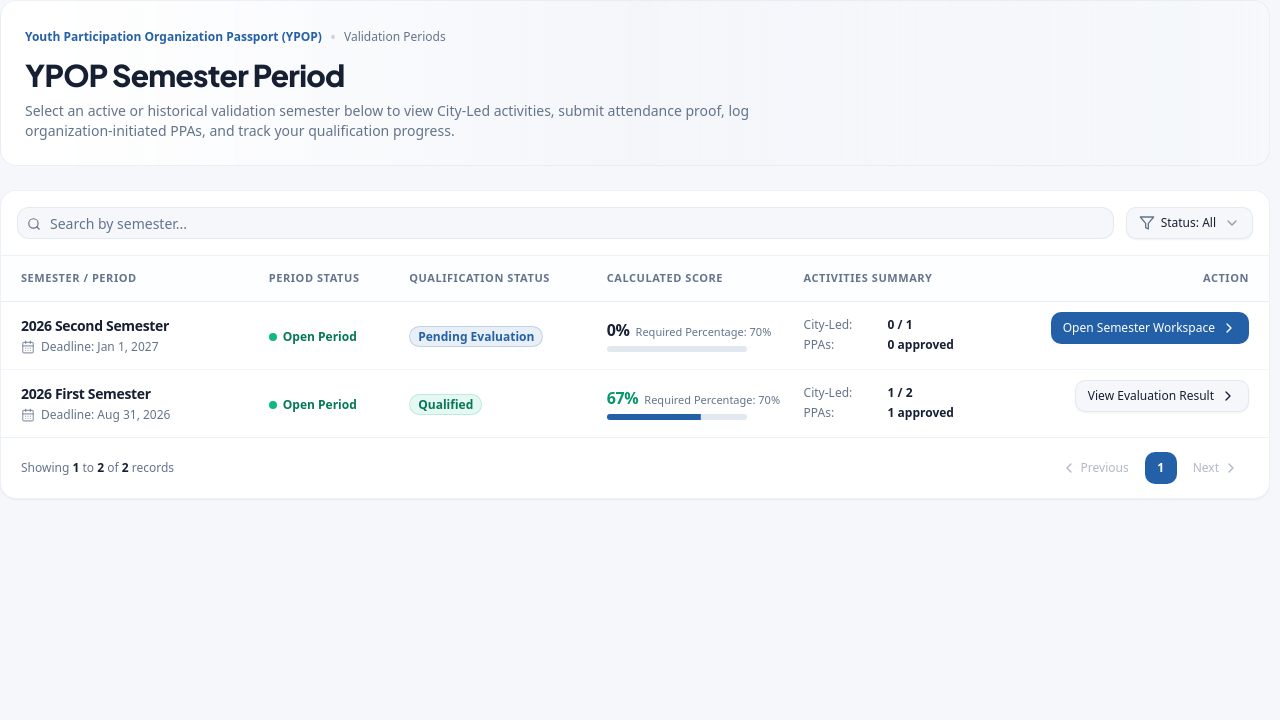
Test: UserPortal YPOP Integration - Admin Configuration & Business Rules › 26. Organization-Led PPA drawer renders structured semantic sections
Click the button "View Evaluation Result" at [1162, 396], box x1=1075 y1=380 x2=1249 y2=412
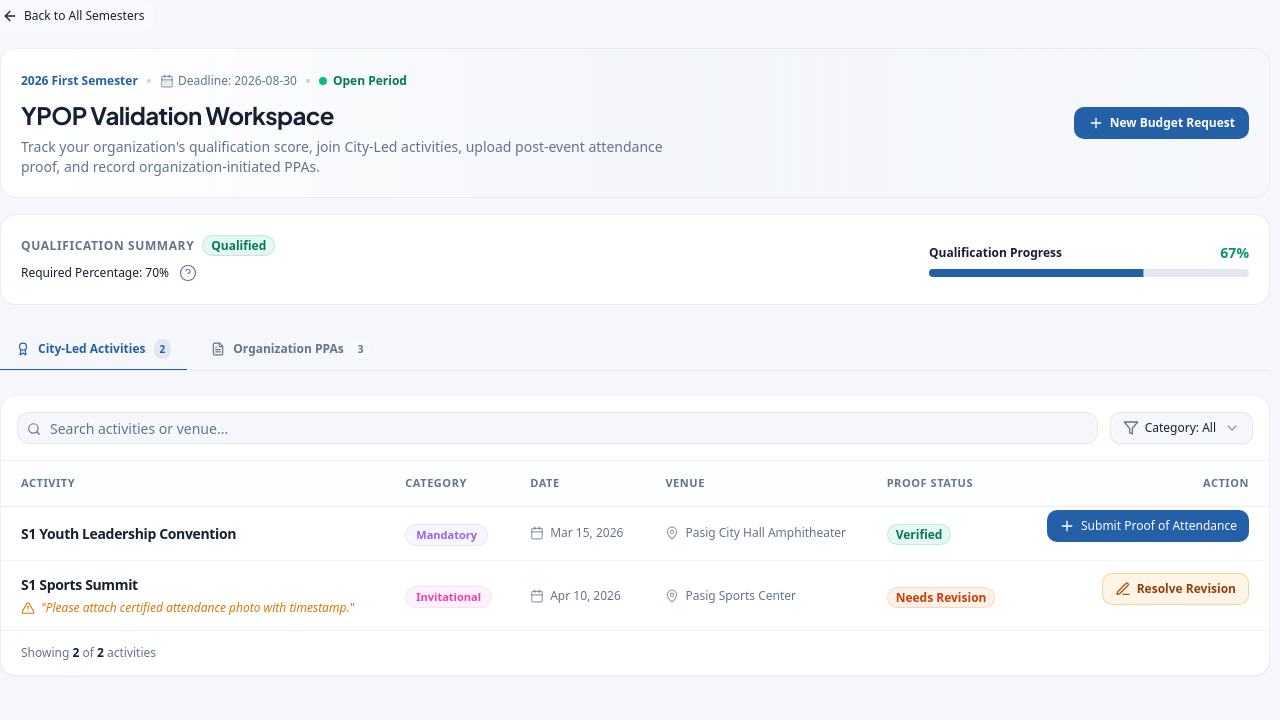
Click the button "Organization PPAs 3" at [290, 350], box x1=195 y1=329 x2=385 y2=371
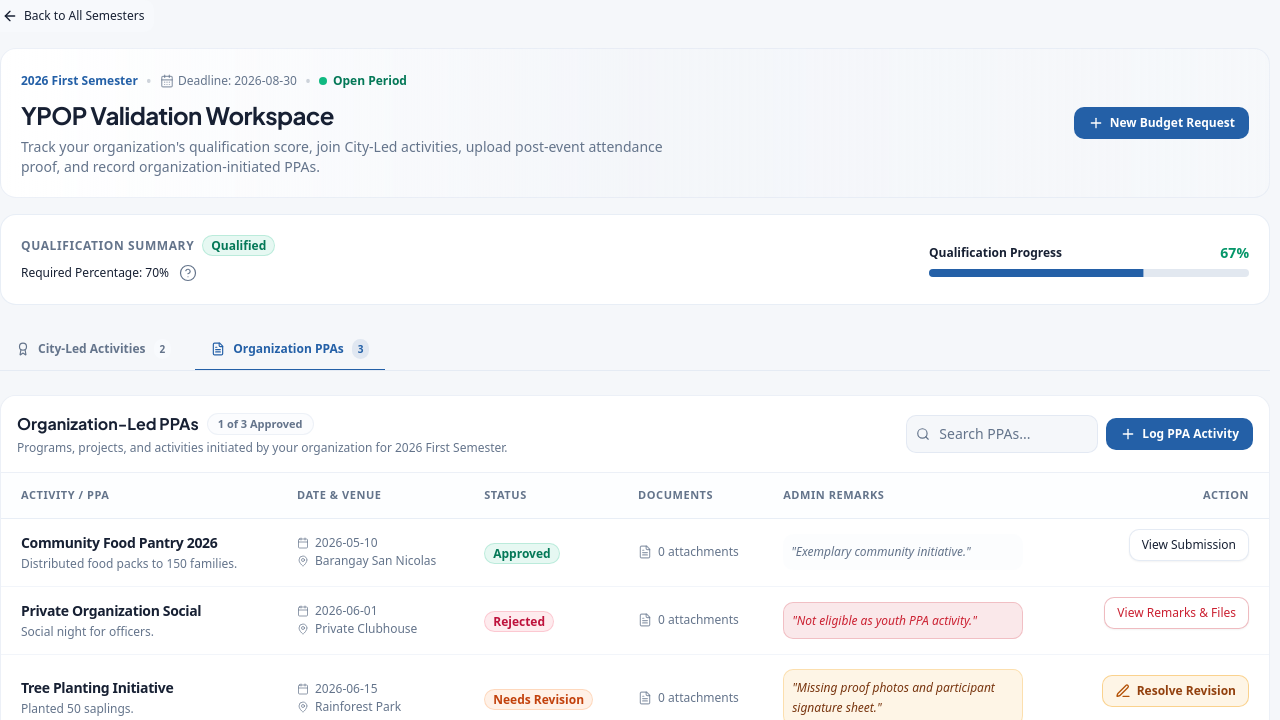
Click the button "Log PPA Activity" at [1180, 434], box x1=1106 y1=418 x2=1253 y2=450
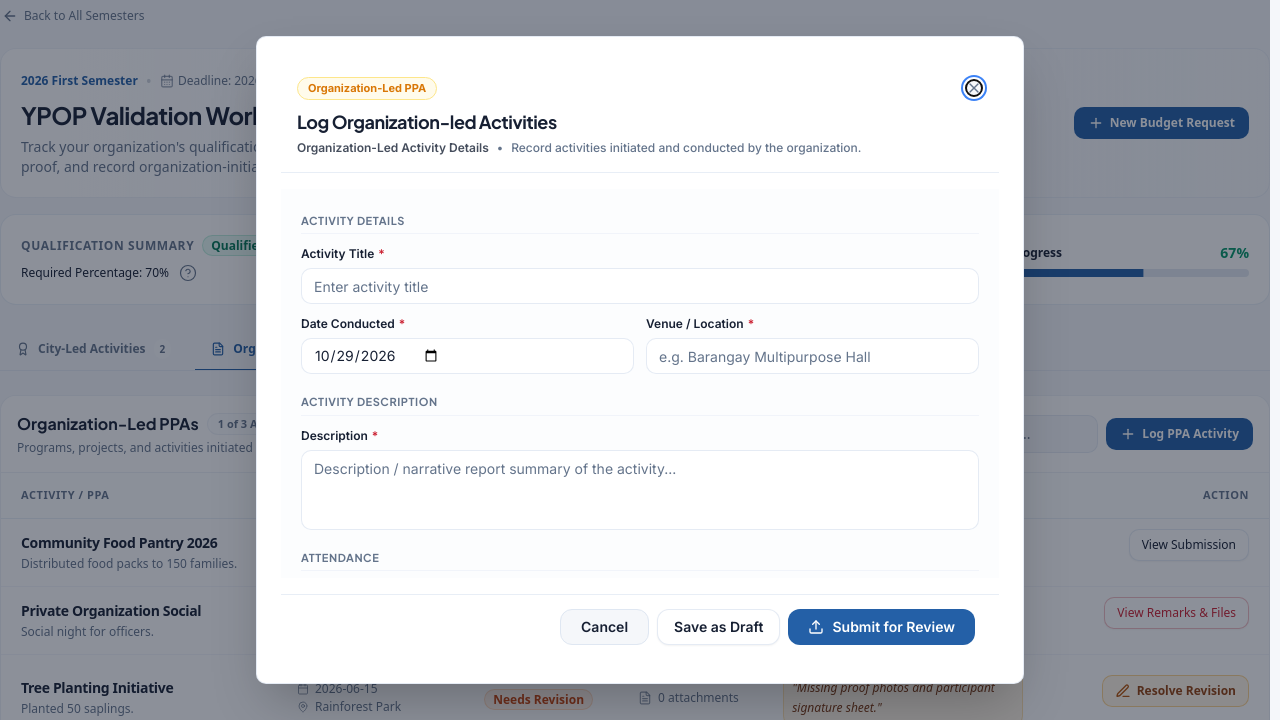
Expected: the heading "Activity Details" is shown, x1=301 y1=214 x2=405 y2=226
Expected: the heading "Activity Description" is shown, x1=301 y1=395 x2=438 y2=408
Expected: the field labelled "Activity Title *" is shown, x1=301 y1=268 x2=979 y2=304
